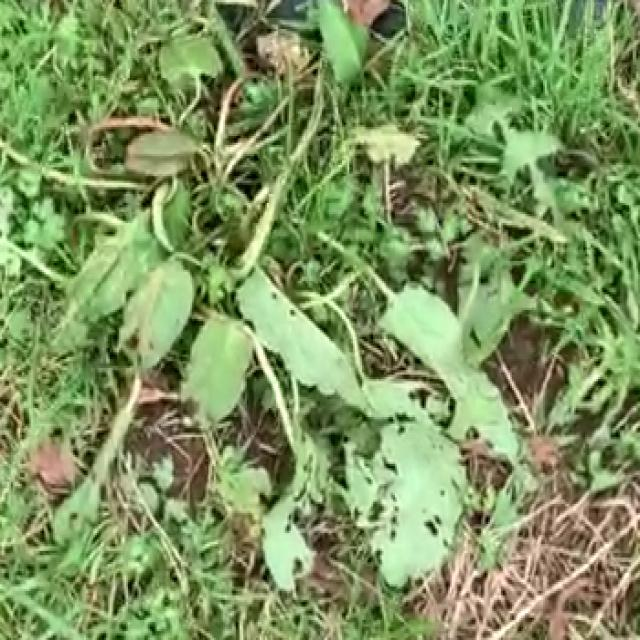organic waste: (59, 0, 546, 551)
